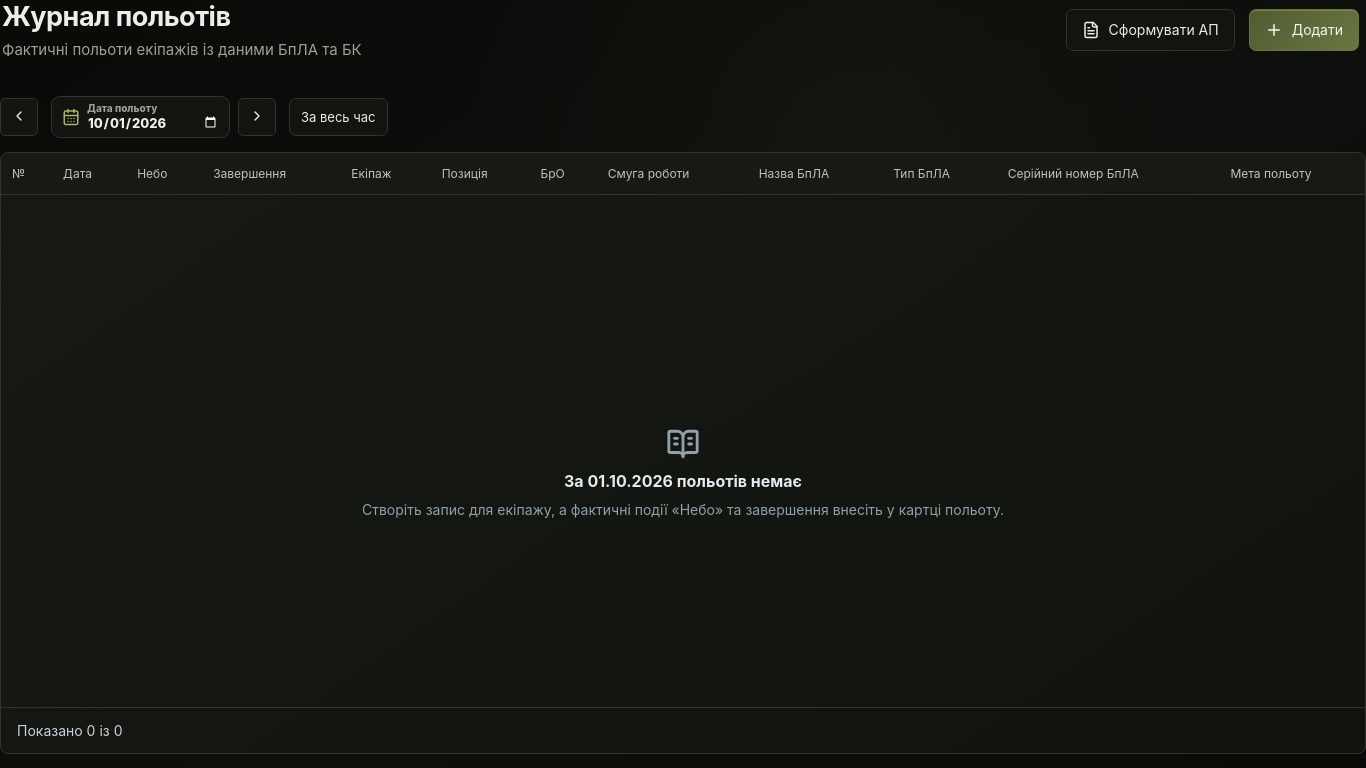
it: Журнал польотів › надає валідному pending-виправленню пріоритет над старим знімком БД
This screenshot has width=1366, height=768.
Click the button "Додати".
click(1304, 30)  # box left=1249, top=8, right=1359, bottom=50
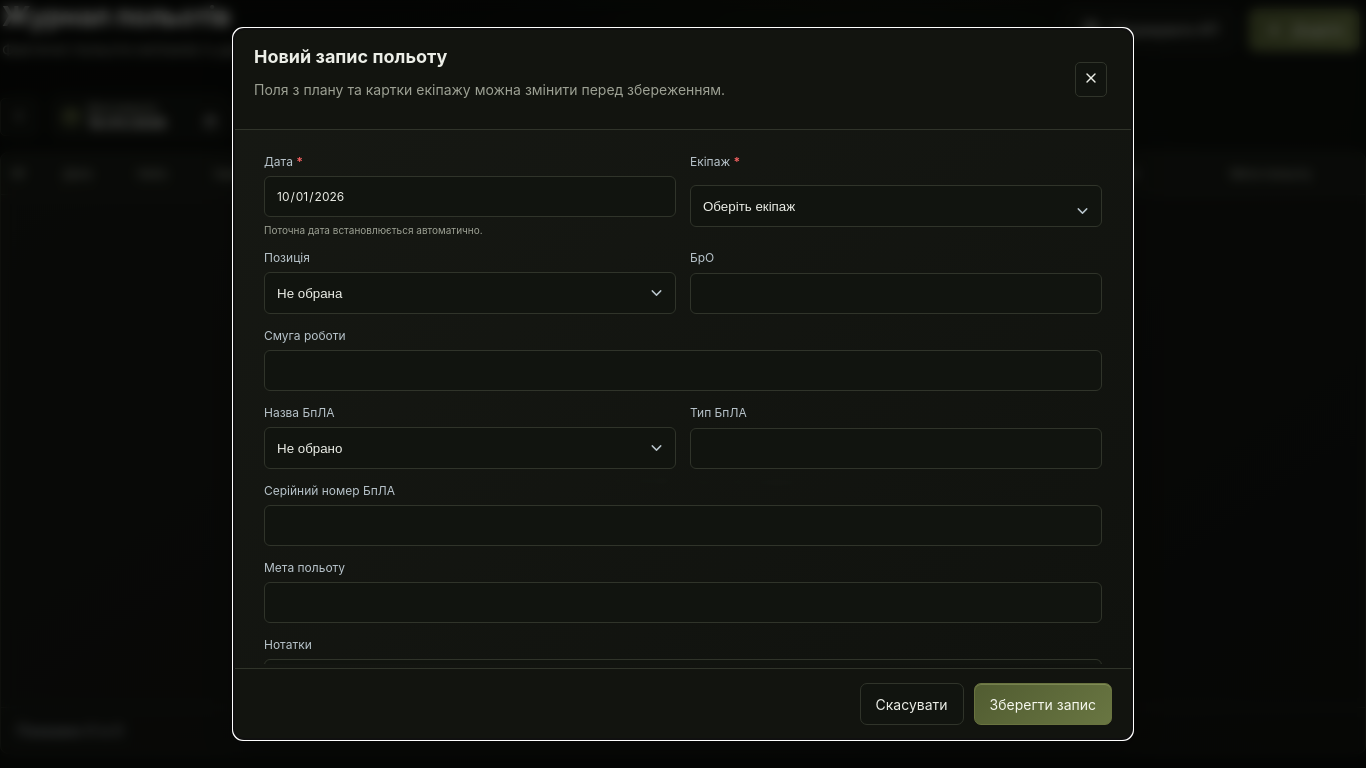
Select "ГРІМ" in the dropdown named "Екіпаж польоту" at point(896, 206), box left=690, top=185, right=1102, bottom=227
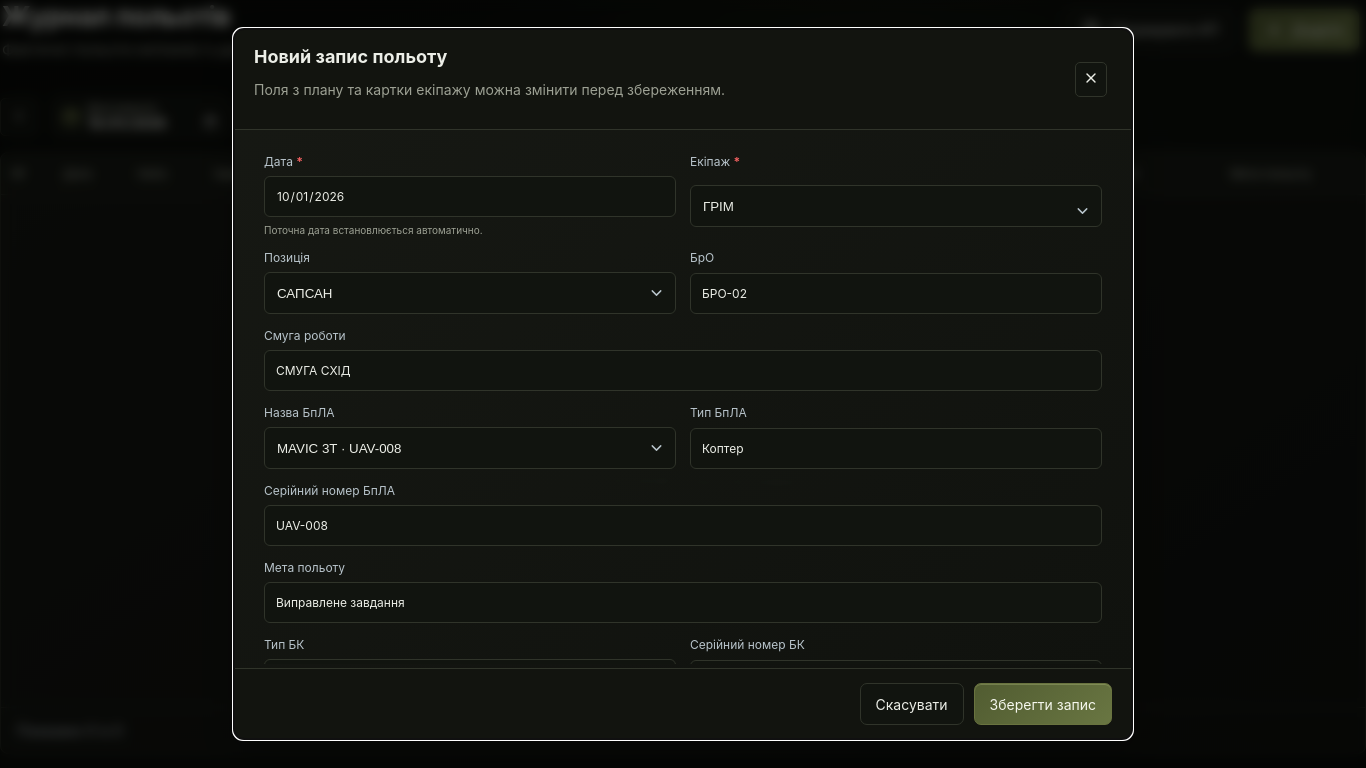
Now the field showing "Виправлене завдання" is shown, box left=264, top=582, right=1102, bottom=623
